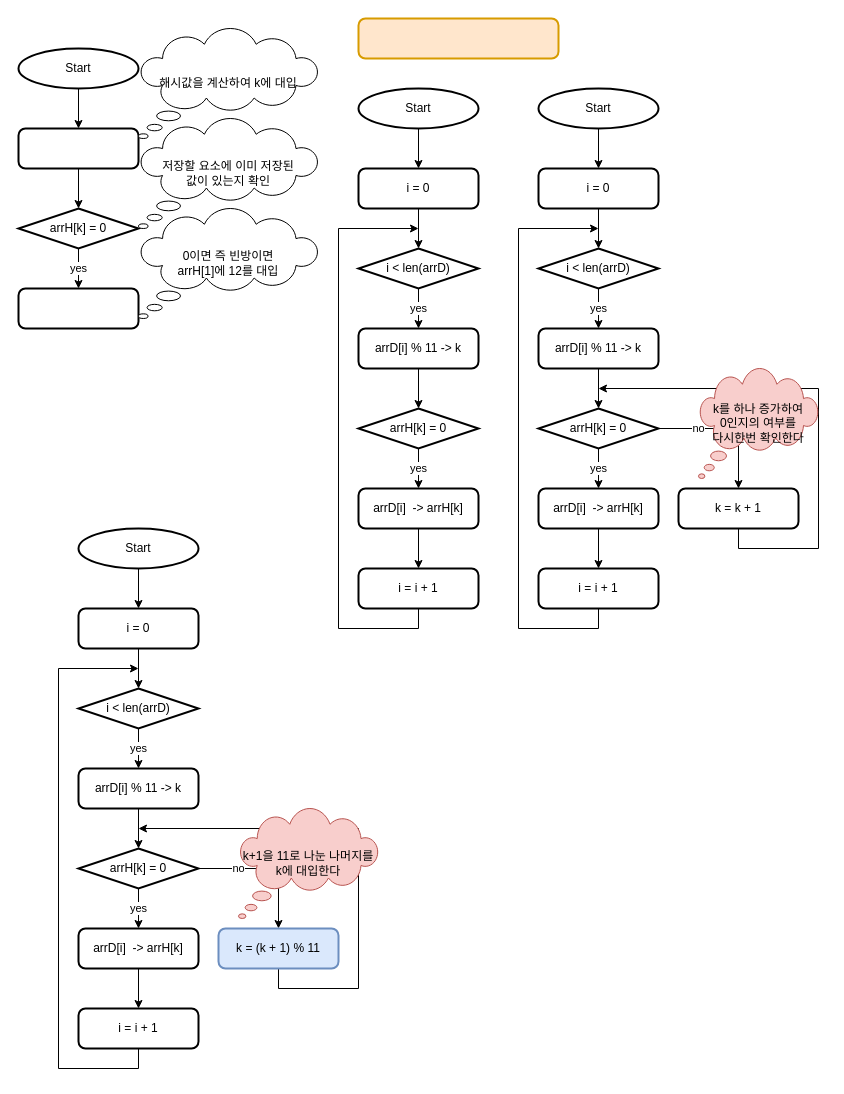
The diagram is 844 pixels wide and 1094 high, and some of its shapes have lost their labels. The shapes that lost their labels are listed below. From the top down, each one's centre as x and y in pixels, then its label:
(458,38): Hash Search
(78,148): arrD[0] % 11 -> k
(78,308): arrD[0] -> arrH[k]
